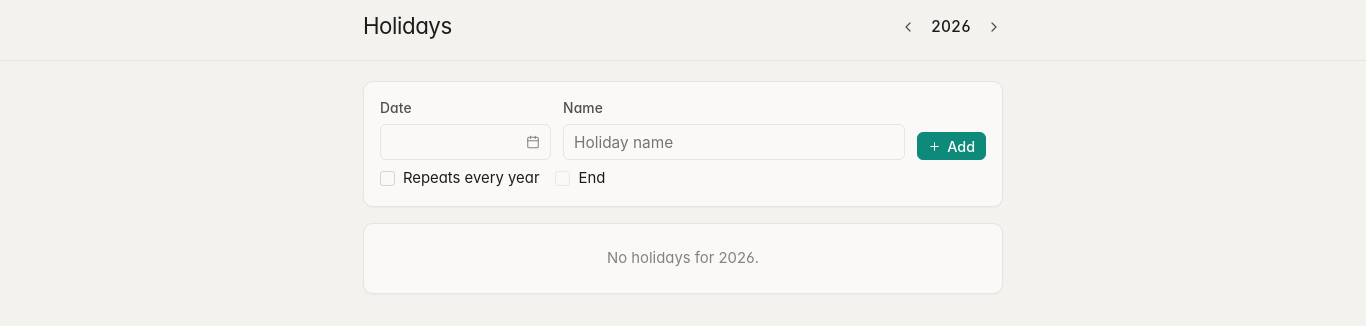
Scenario: AdminHolidays › keeps the end-year select hidden until 'Repeats every year' is checked
Step 1. Click the checkbox labelled "Repeats every year" → (388, 179), box [380, 171, 395, 186]
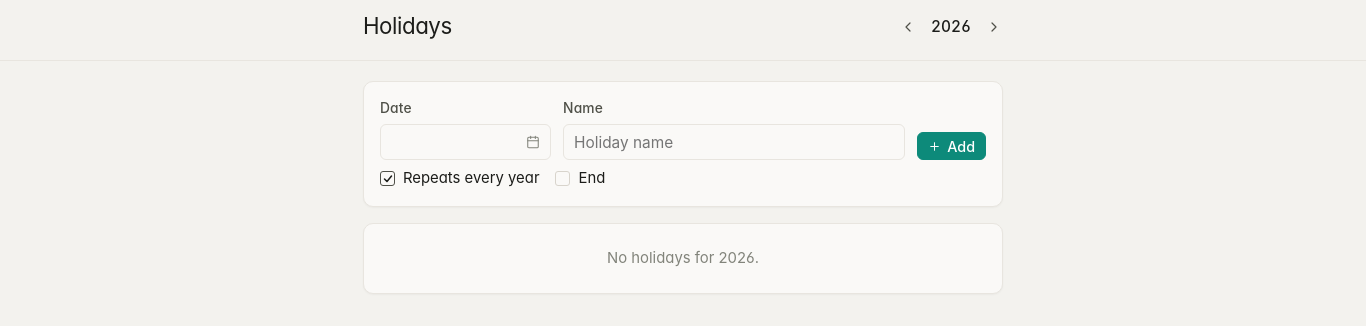
Step 2. Click the checkbox labelled "End" → (563, 179), box [556, 171, 570, 186]
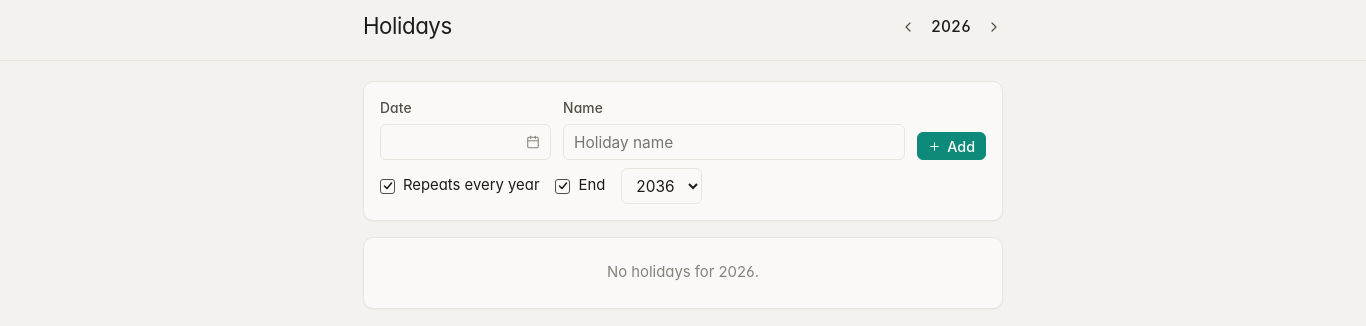
Expected: the dropdown with class "end-year-select" is shown, [621, 168, 702, 204]
Unchecking "Repeats every year" hides the end-year option again.
Step 3. Click the checkbox labelled "Repeats every year" → (388, 186), box [380, 178, 395, 194]
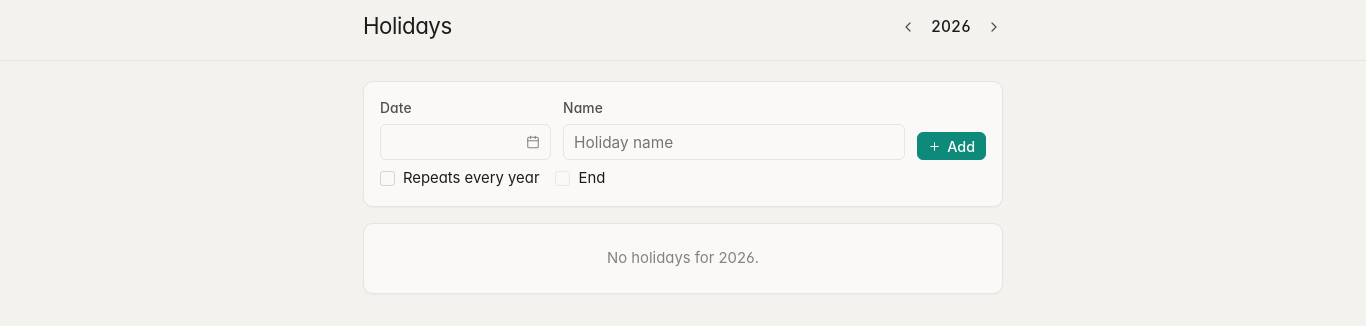
Expected: the dropdown with class "end-year-select" is gone
